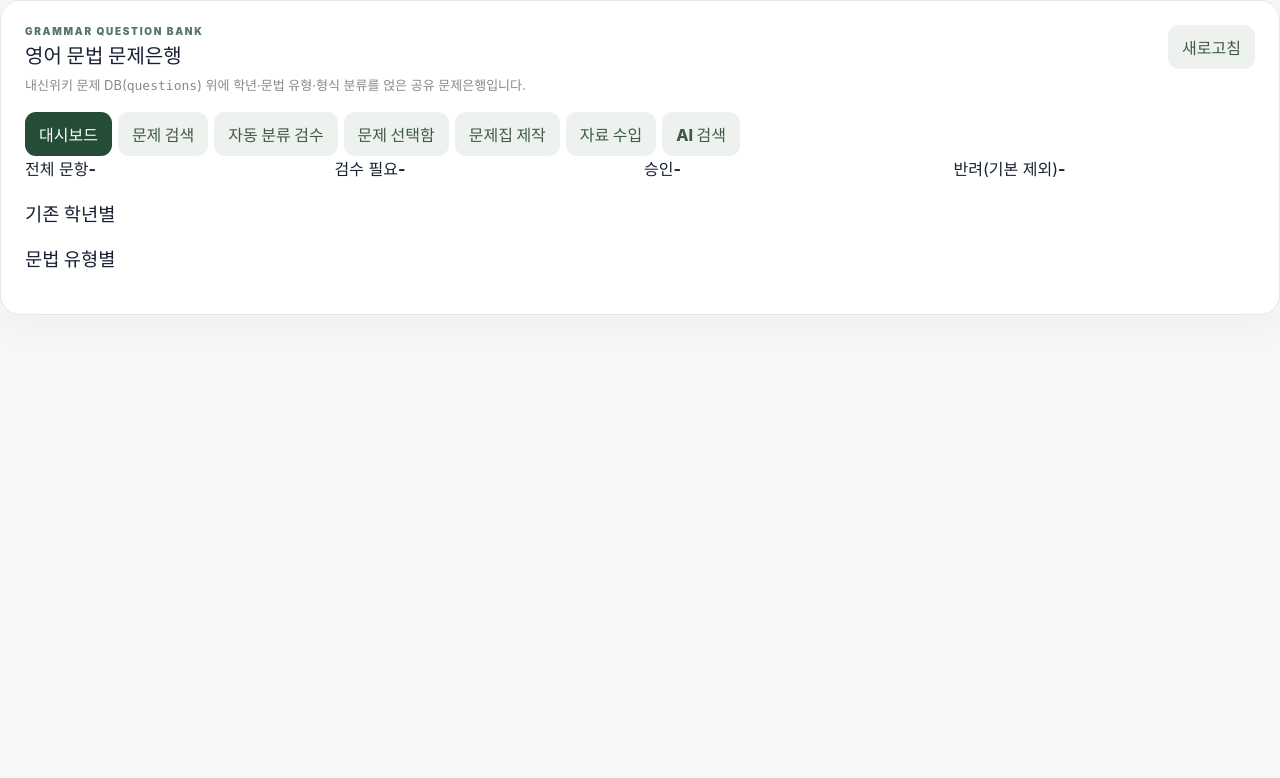
combines grade/difficulty/type and updates recommended grade without changing original grade
This screenshot has width=1280, height=778.
Click the button "문제 검색" at [163, 134], box [118,112,208,156]
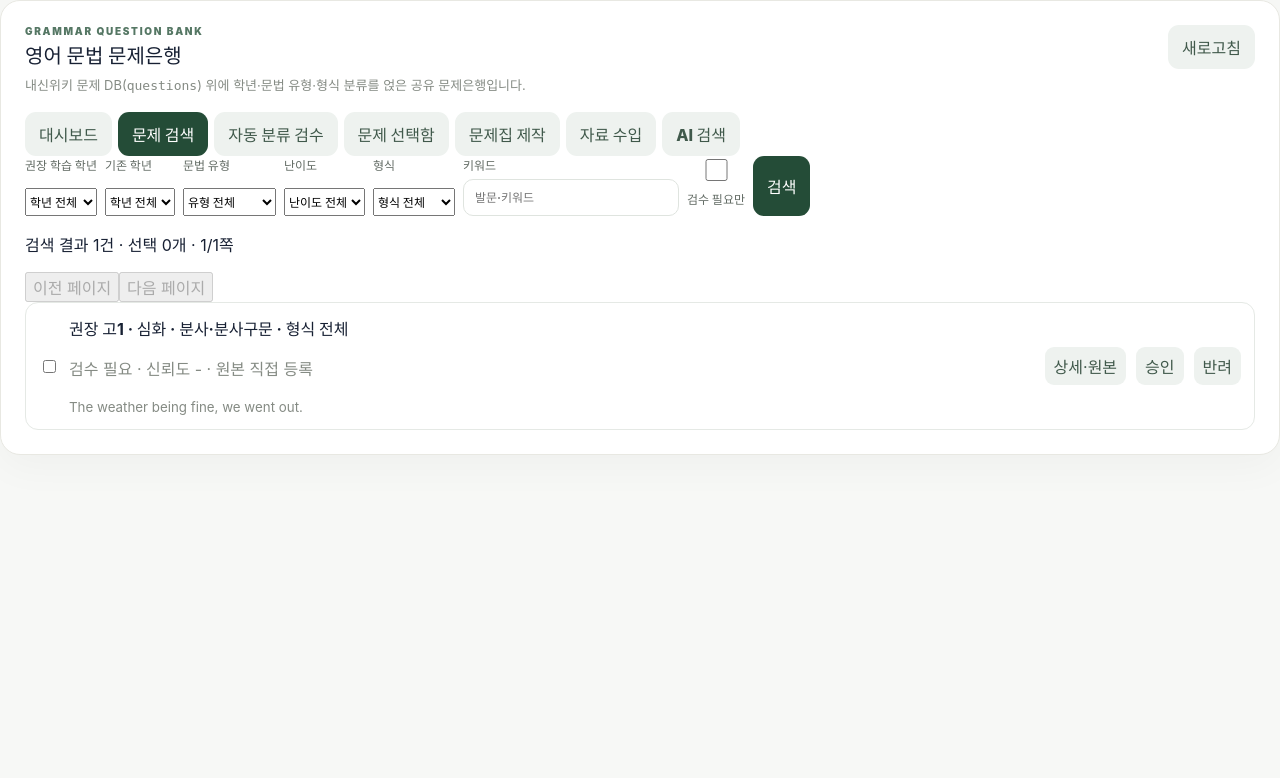
Expected: the button "상세·원본" is shown, [1045,347,1126,385]
Select "고1" in the dropdown labelled "권장 학습 학년" at [61, 202], box [25,188,97,216]
Select "심화" in the dropdown labelled "난이도" at [324, 202], box [284,188,365,216]
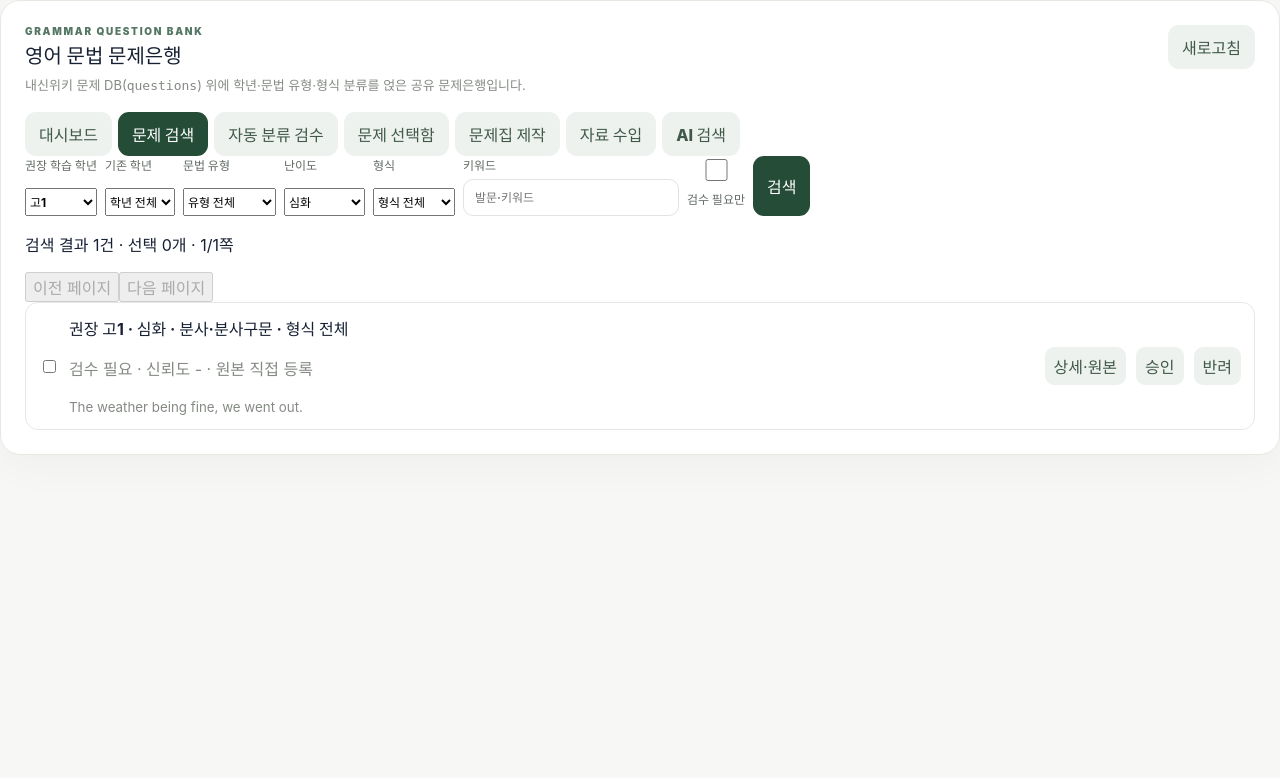
Select "분사·분사구문" in the dropdown labelled "문법 유형" at [229, 202], box [183,188,276,216]
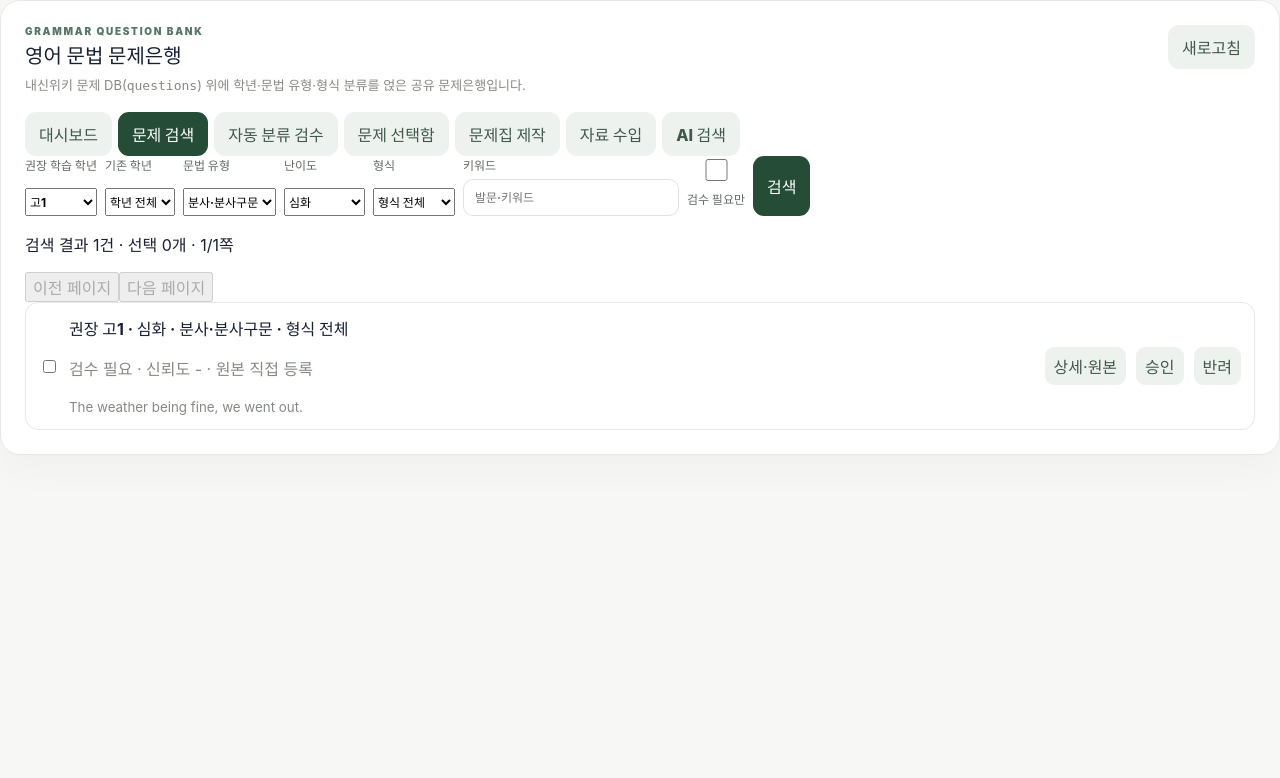
Click the button "상세·원본" at [1085, 366], box [1045,347,1126,385]
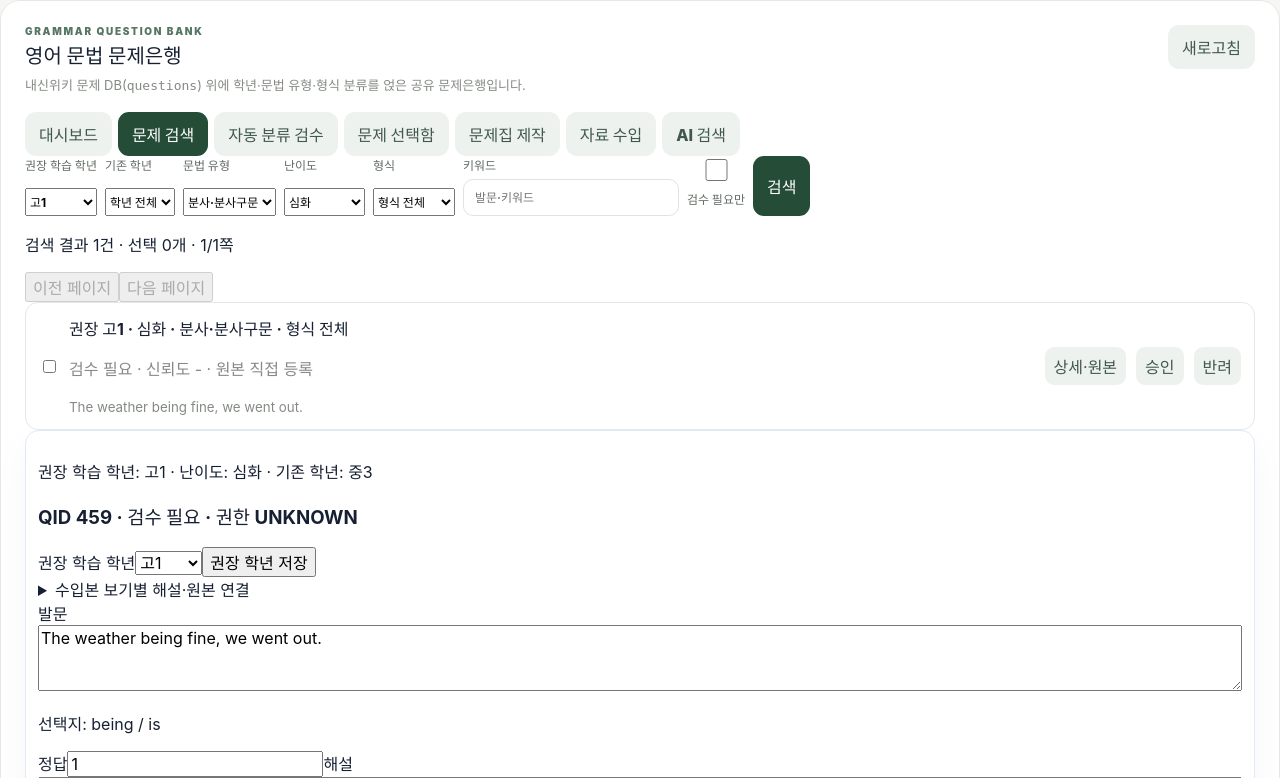
Expected: the text "권장 학습 학년: 고1 · 난이도: 심화 · 기존 학년: 중3" is shown, [38,462,373,482]
Select "고2" in the dropdown labelled "권장 학습 학년" below "QID" at [169, 563], box [135,551,202,575]
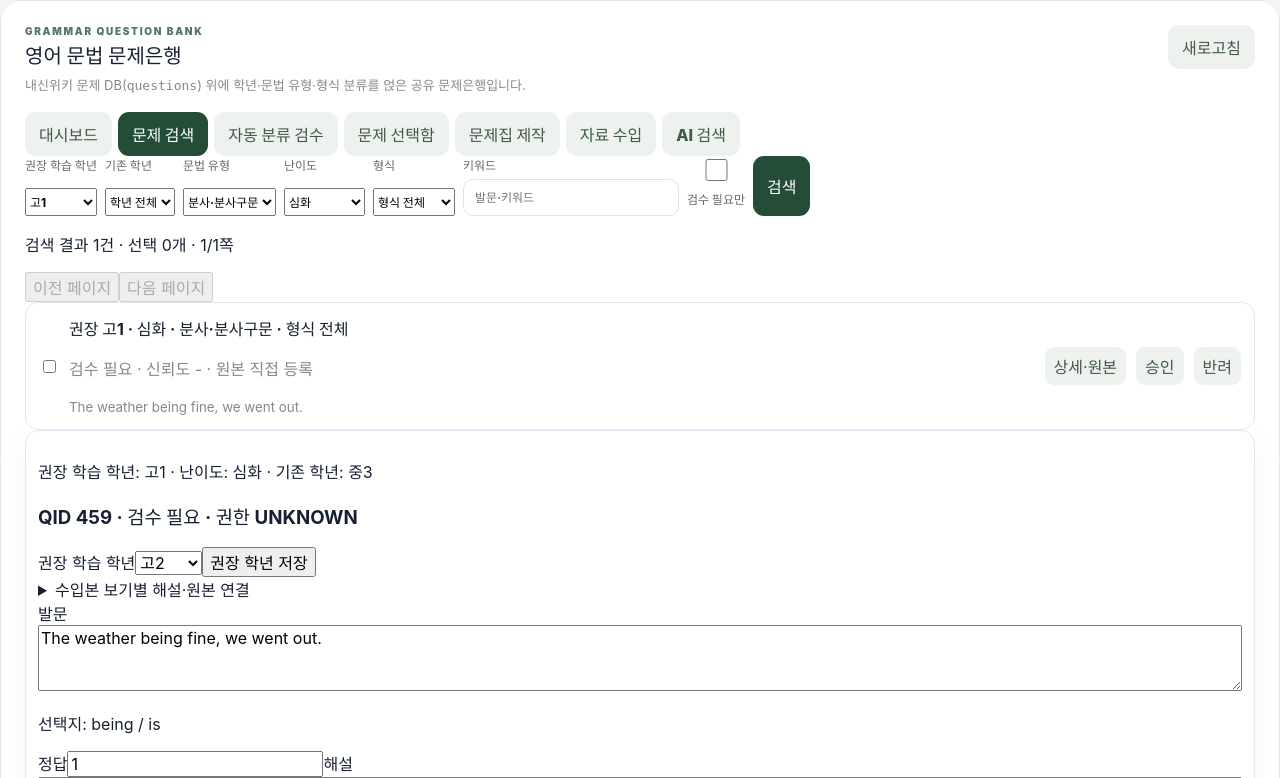
Click the button "권장 학년 저장" at [259, 562], box [202,547,316,577]
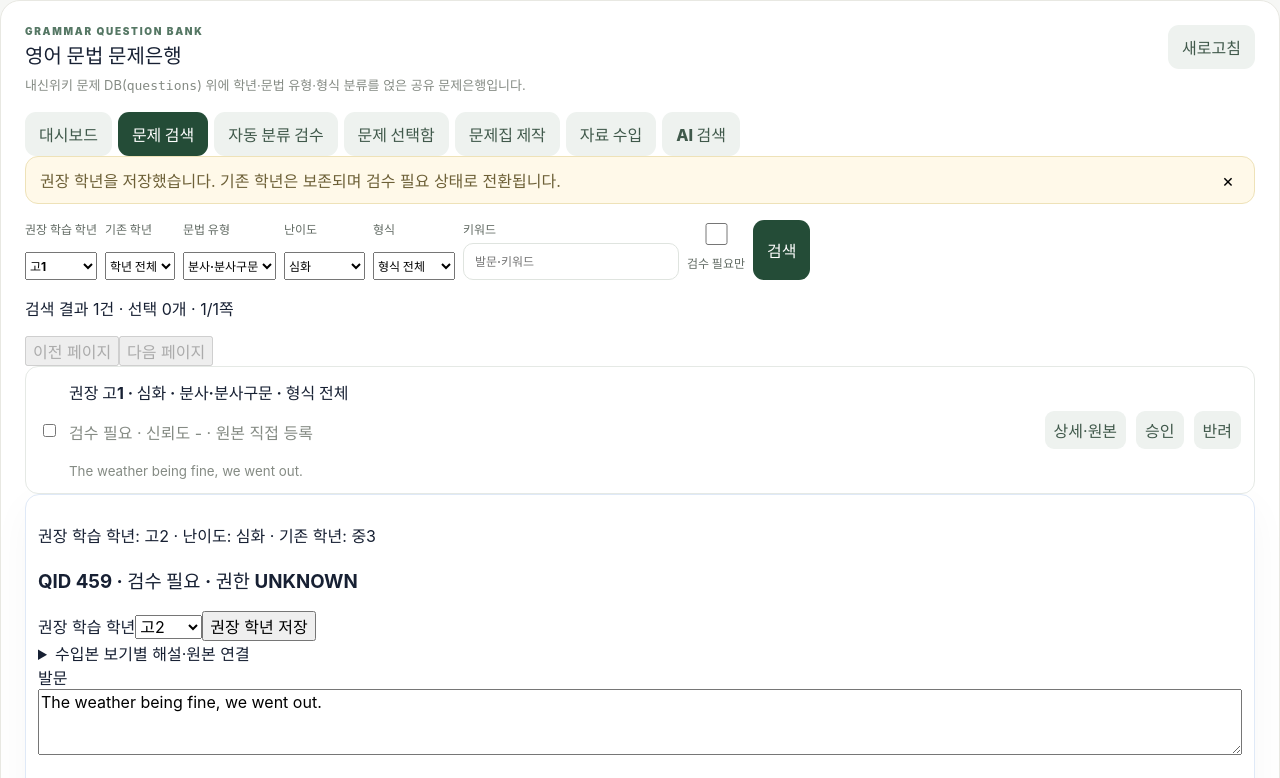
Expected: the text "권장 학년을 저장했습니다. 기존 학년은 보존되며 검수 필요 상태로 전환됩니다. ×" is shown, [25,156,1255,204]
